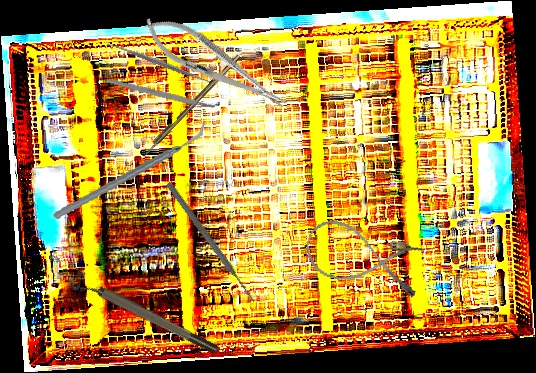Cannula: (299, 214, 429, 302)
Chopper: (45, 120, 216, 222)
Fixation Ring: (66, 267, 221, 363)
Hook Surgical: (138, 53, 242, 161)
Needle Holder: (134, 4, 295, 124)
Pusher: (164, 180, 258, 305)
Scalpel Handle: (105, 77, 216, 111)
Spatula Surgical: (103, 35, 221, 92)
